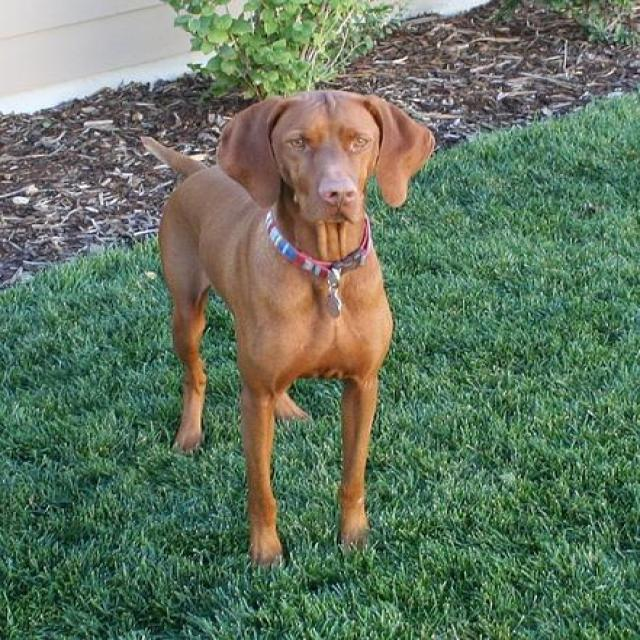vizsla: (140, 87, 436, 567)
